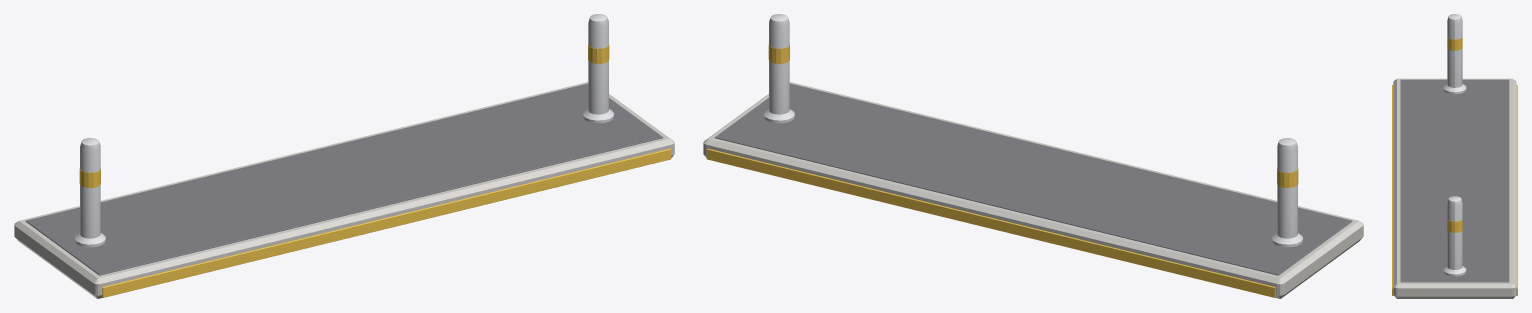
Rendered from PumpIsland.glb.
3 views of the same model, side by side, from view 1: azimuth 30°, elevation 25°; view 2: azimuth 150°, elevation 25°; view 3: azimuth 270°, elevation 25° (orthographic). The views are drawn at different scales.
Parts seen in each view (by area): view 1: pump-island-kerb; view 2: pump-island-kerb; view 3: pump-island-kerb.
Boxes of the visible parts, x1=… form: pump-island-kerb: x1=14, y1=14, x2=674, y2=298; pump-island-kerb: x1=703, y1=14, x2=1363, y2=298; pump-island-kerb: x1=1392, y1=14, x2=1517, y2=298.
Bounding box in the file's own units: 4.8 × 0.96 × 1.23.
